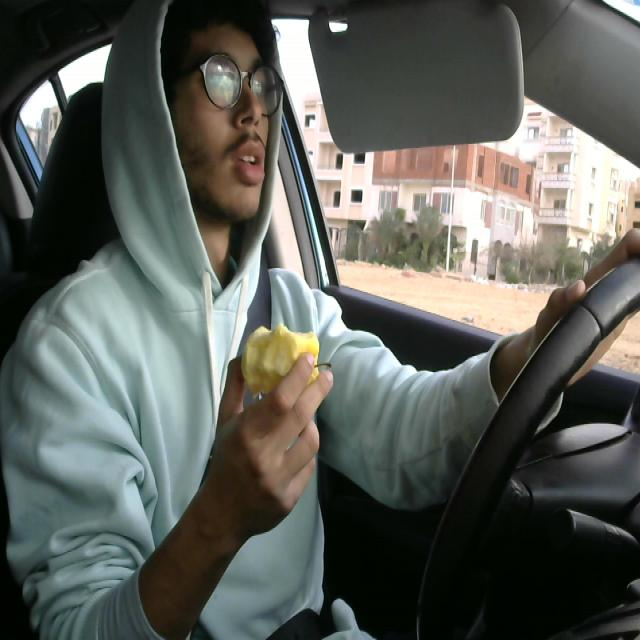eating: (238, 319, 332, 402)
